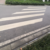zebra: (1, 6, 48, 31)
